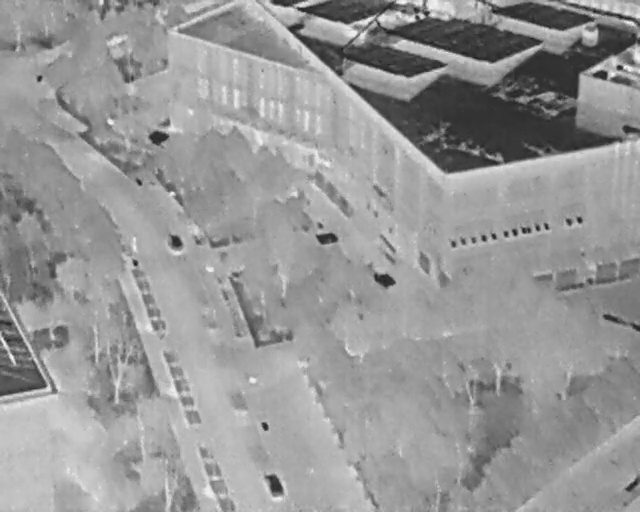Car: (263, 470, 285, 500), (165, 232, 185, 254)
